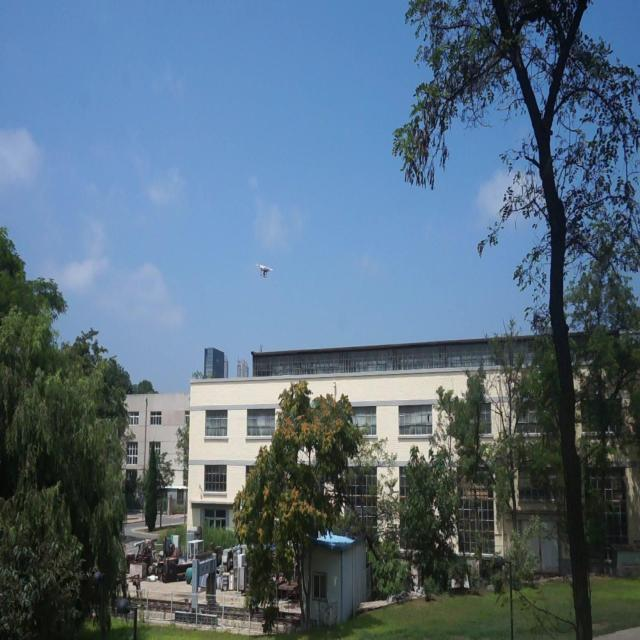drone: (258, 260, 273, 278)
